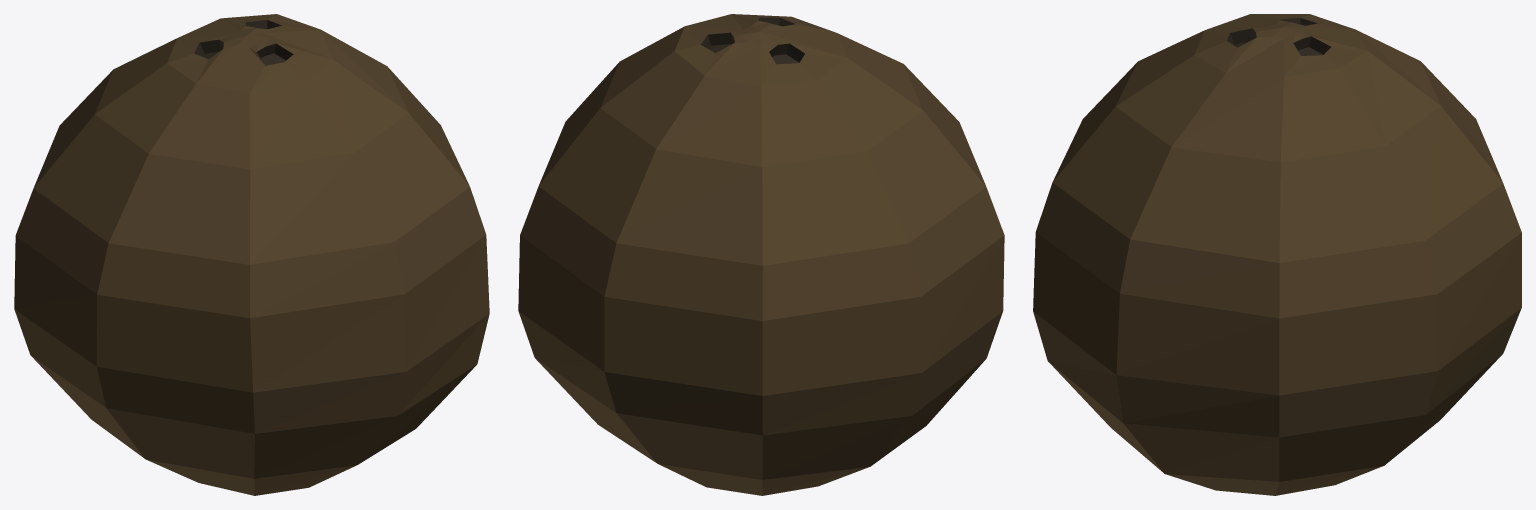
File: coconut.fbx
The picture shows the model from 3 angles, left to right: view 1: azimuth 30°, elevation 25°; view 2: azimuth 150°, elevation 25°; view 3: azimuth 270°, elevation 25°; orthographic projection. The views are drawn at different scales.
Visible parts, largest first — view 1: coconut; view 2: coconut; view 3: coconut.
Part boxes in pixels (x1=…): coconut: x1=14, y1=14, x2=489, y2=495; coconut: x1=518, y1=14, x2=1004, y2=495; coconut: x1=1033, y1=14, x2=1521, y2=495.
Bounding box in the file's own units: 30.52 × 31.05 × 31.
